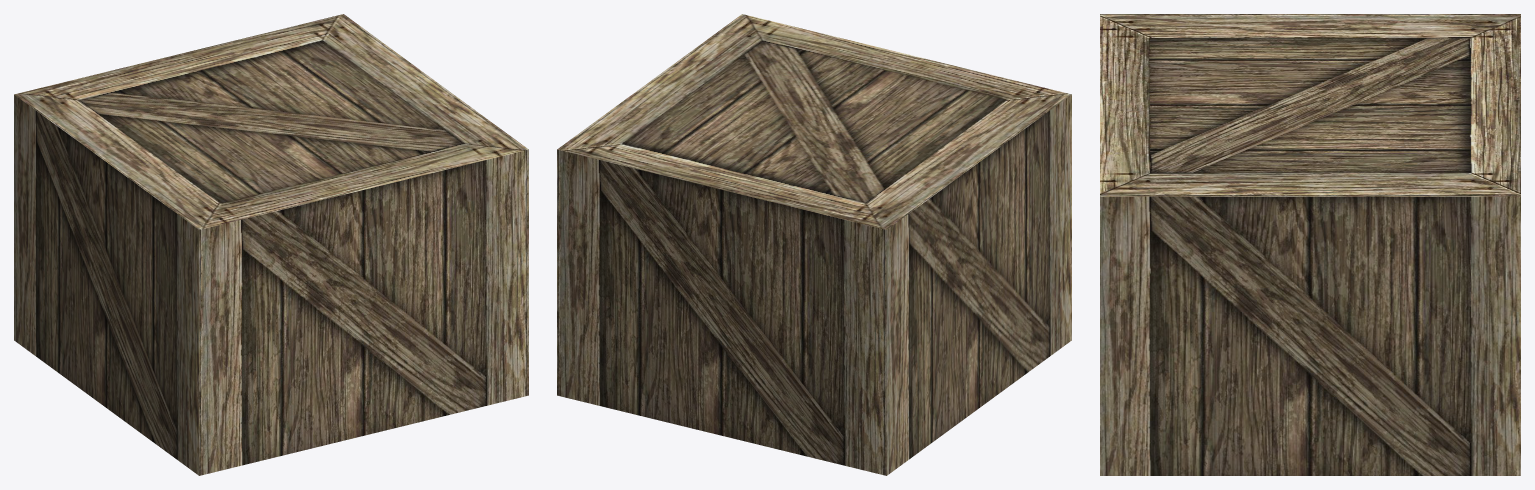
File: Crate1.FBX
3 renders of one model, left to right at view 1: azimuth 30°, elevation 25°; view 2: azimuth 150°, elevation 25°; view 3: azimuth 270°, elevation 25°, orthographic. The views are drawn at different scales.
Visible parts, largest first — view 1: Box001; view 2: Box001; view 3: Box001.
Boxes of the visible parts, box(x1,y1,x2,y2) form: Box001: box(14, 14, 528, 475); Box001: box(557, 14, 1071, 475); Box001: box(1100, 14, 1520, 475).
Bounding box in the file's own units: 28.06 × 27.3 × 20.
